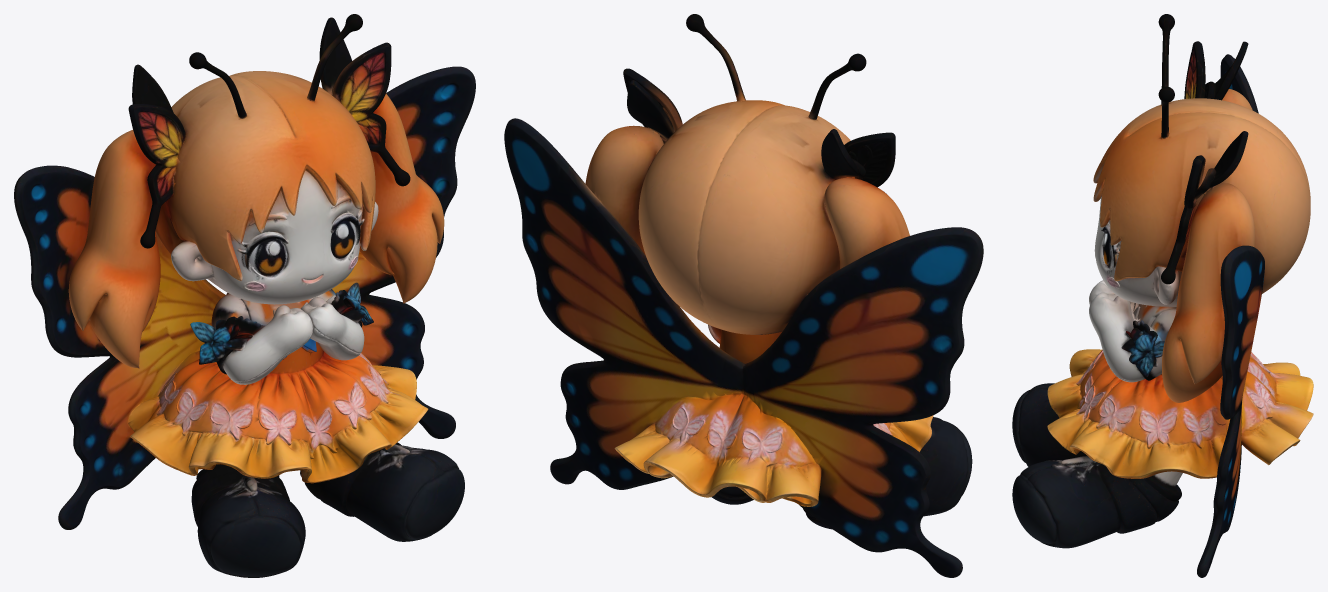
The model's file is monamoth.glb.
3 renders of one model, left to right at view 1: azimuth 30°, elevation 25°; view 2: azimuth 150°, elevation 25°; view 3: azimuth 270°, elevation 25°, orthographic. The views are drawn at different scales.
Visible parts, largest first — view 1: node_0; view 2: node_0; view 3: node_0.
Boxes of the visible parts, bbox=[...] form: node_0: bbox=[14, 14, 475, 577]; node_0: bbox=[504, 14, 983, 577]; node_0: bbox=[1012, 14, 1313, 577].
Bounding box in the file's own units: 0.9507 × 0.9382 × 0.5683.
Materials: 1 (1 with a texture image).
